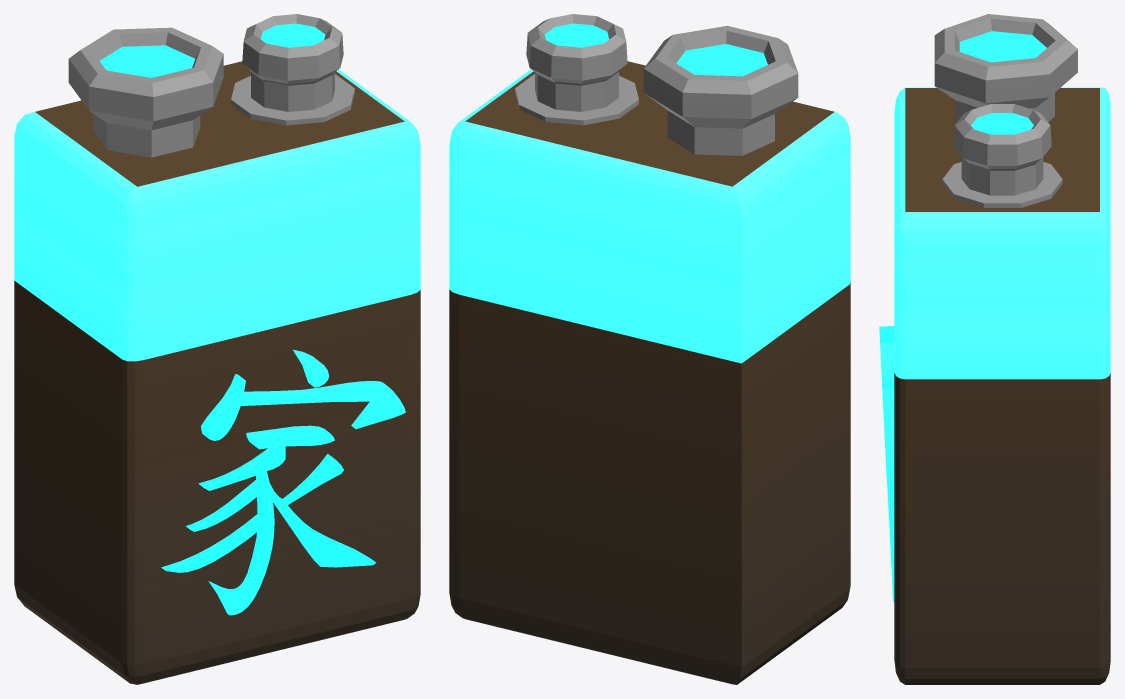
File: bateria2.fbx
3 renders of one model, left to right at view 1: azimuth 30°, elevation 25°; view 2: azimuth 150°, elevation 25°; view 3: azimuth 270°, elevation 25°, orthographic. The views are drawn at different scales.
Parts seen in each view (by area): view 1: Text.025; view 2: Text.025; view 3: Text.025.
Part boxes in pixels (x1,y1,x2,y2): Text.025: (14, 14, 420, 684); Text.025: (449, 14, 850, 684); Text.025: (879, 14, 1110, 684).
Bounding box in the file's own units: 314 × 583 × 223.
1 material, 1 textured.
